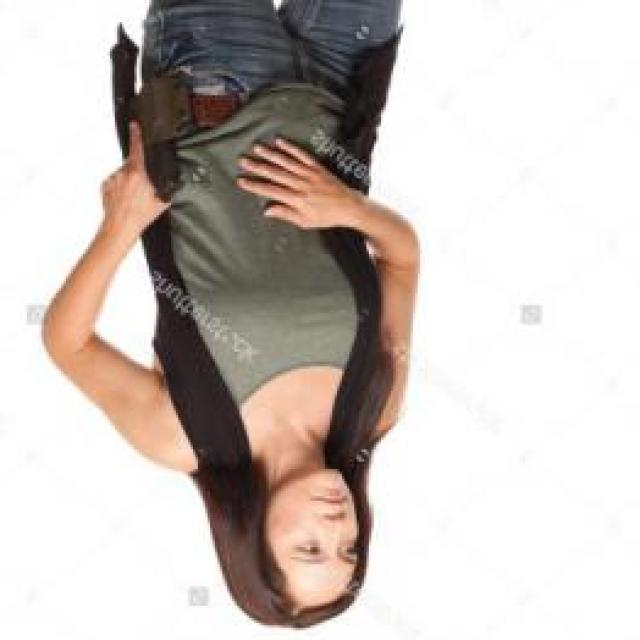pistol: (117, 77, 188, 205)
